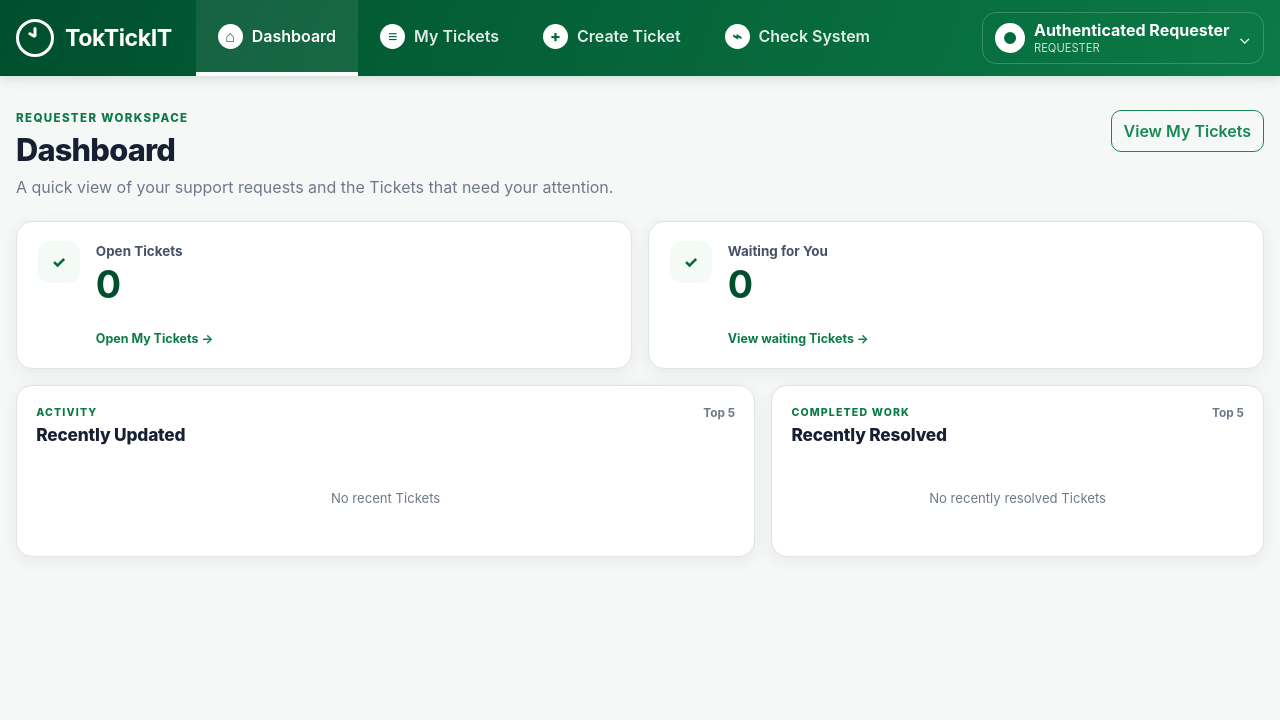
Test: Lab 3 authenticated application shell › opens normal profile Change Password with Save Password and Cancel
Click the heading named "User menu for Authenticated Requester" at coordinates (1123, 38), box x1=982 y1=12 x2=1264 y2=64
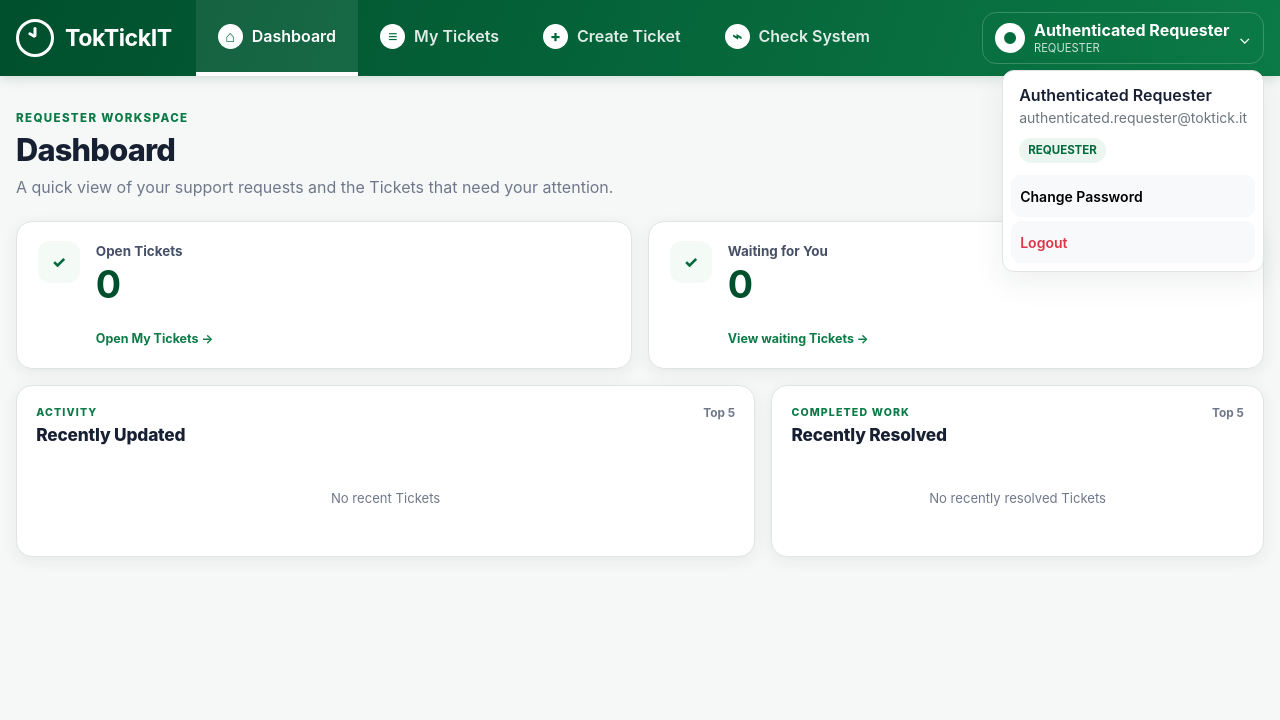
Click the button "Change Password" at coordinates (1133, 196), box x1=1011 y1=175 x2=1255 y2=217
(page scrolled)
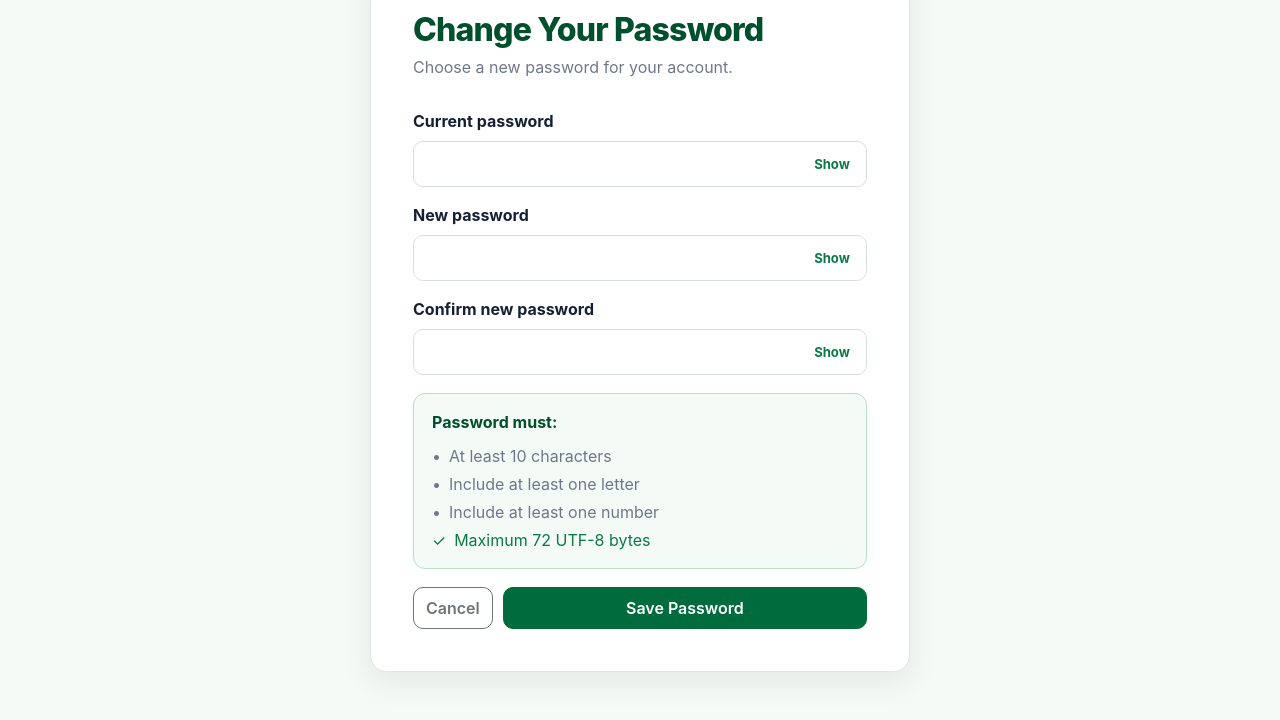
Now the heading "Change Your Password" is shown, box x1=413 y1=10 x2=764 y2=49
Now the button "Save Password" is shown, box x1=503 y1=587 x2=867 y2=629
Now the button "Cancel" is shown, box x1=413 y1=587 x2=493 y2=629
